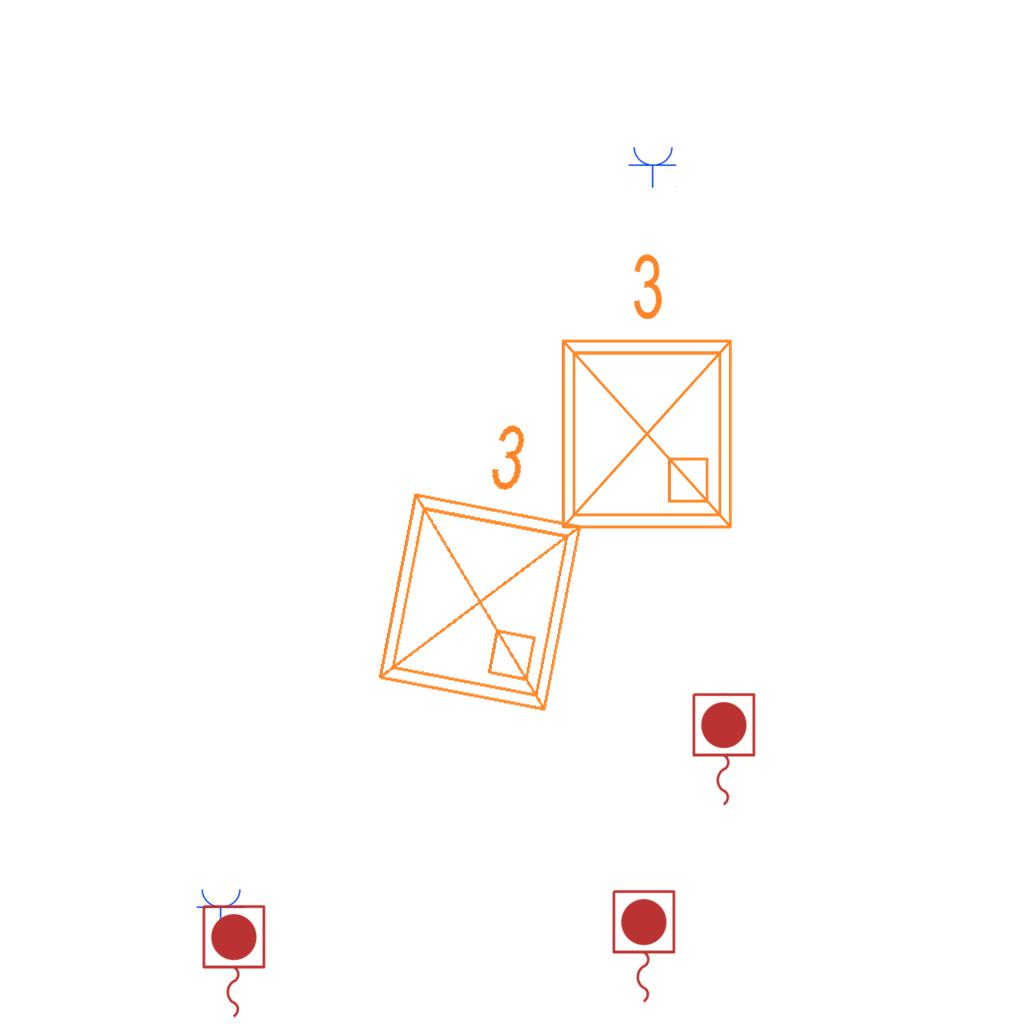Einbaudownlights_LED_Konferenzraeume: (353, 393, 615, 729), (539, 243, 747, 543)
Schukosteckdose_einfach: (628, 145, 678, 188), (196, 887, 246, 930)
Zugtaster: (607, 886, 679, 1008), (687, 689, 759, 811), (197, 901, 269, 1023)
